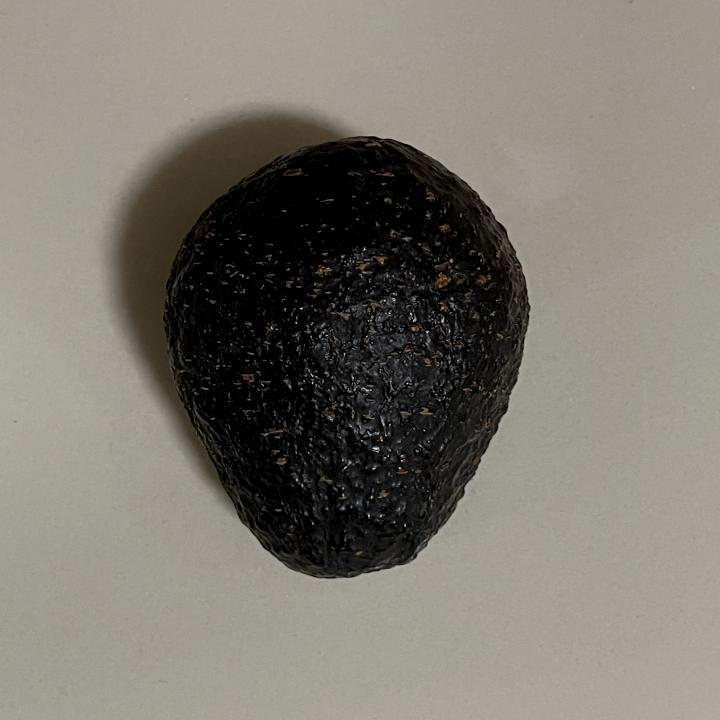Level3: (150, 128, 546, 593)
